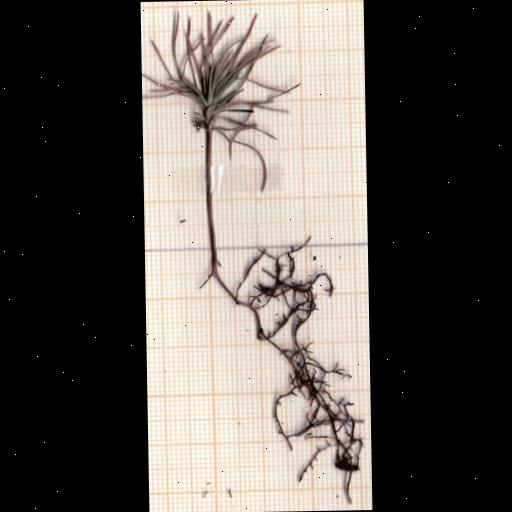flowerCedr: (142, 14, 277, 134)
rootCedr: (205, 239, 362, 500)
stemCedr: (203, 128, 217, 277)
